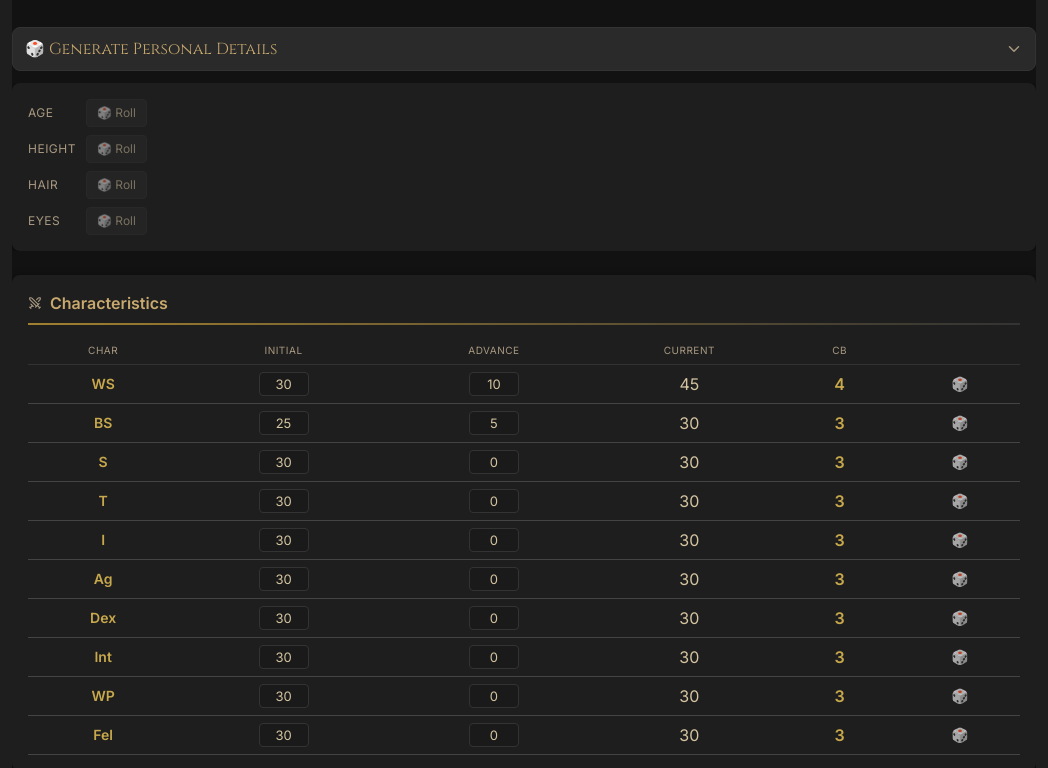
CharCurrentTooltip integration › tap on touch device opens tooltip, tap outside closes it
// Click serves as tap on touch devices
Click the button "45" at x=689, y=384, box [679,374,699,394]
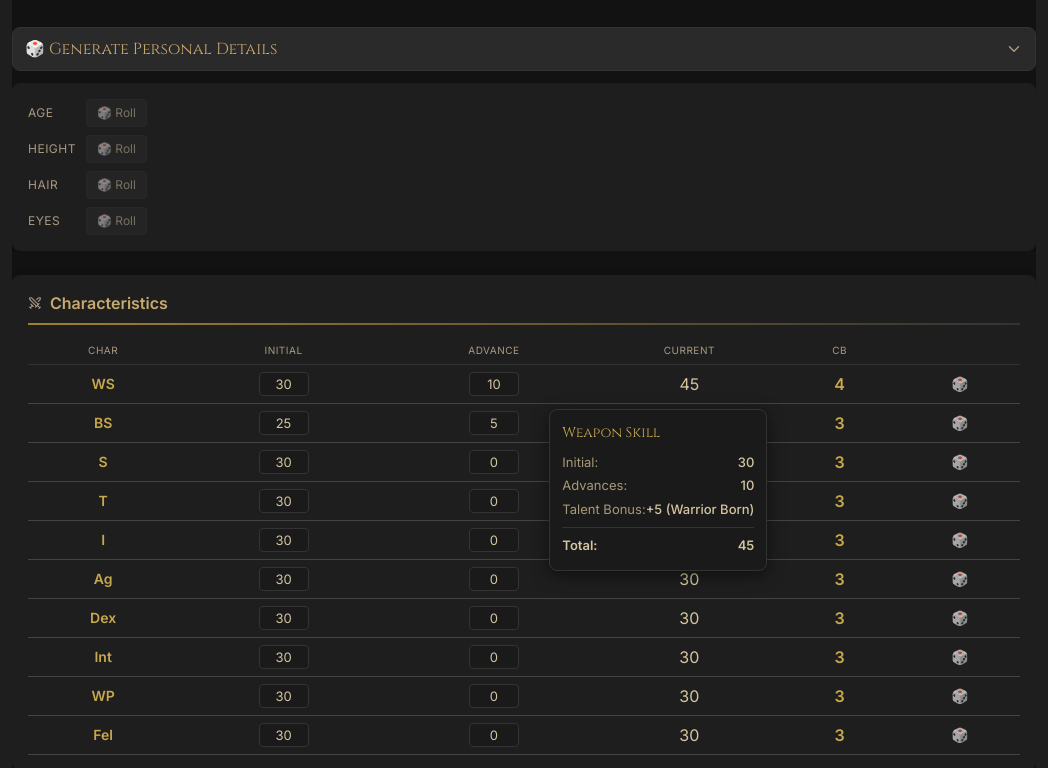
Result: the tooltip with id "tooltip-char-WS" is shown at [549,408,767,570]
// Tap outside (mousedown on document.body) closes tooltip
Press the mouse on the element that starts with "Getting started" at x=524, y=384, box [12,0,1036,767]
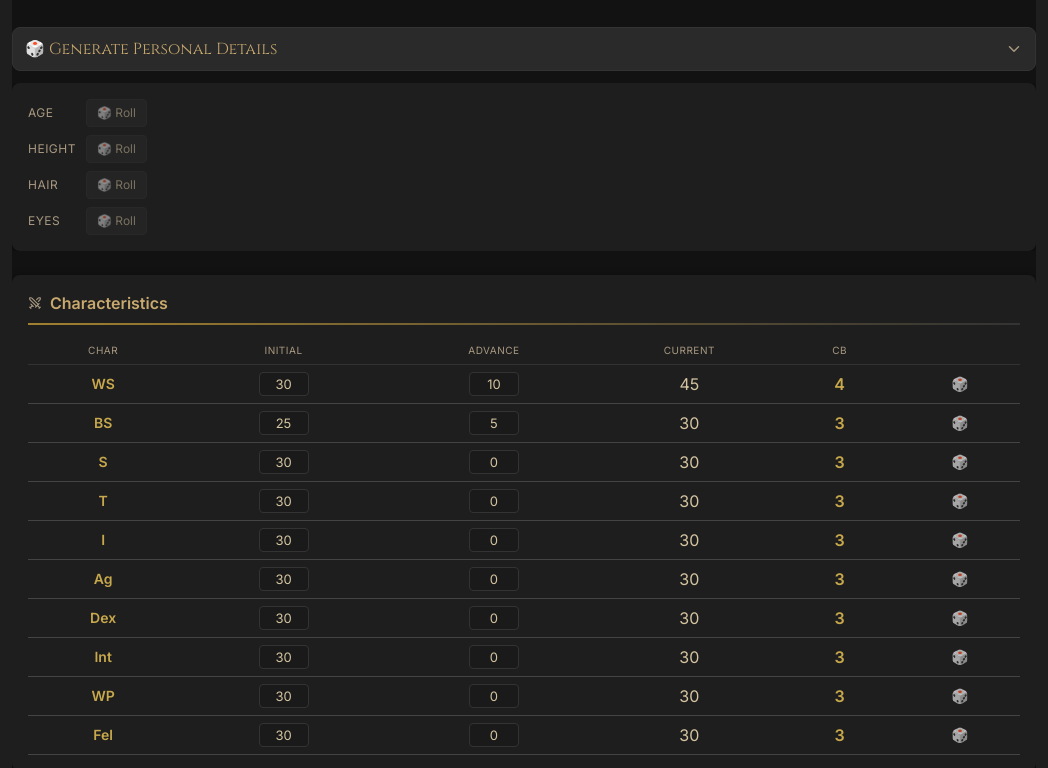
Result: the tooltip with id "tooltip-char-WS" is gone
